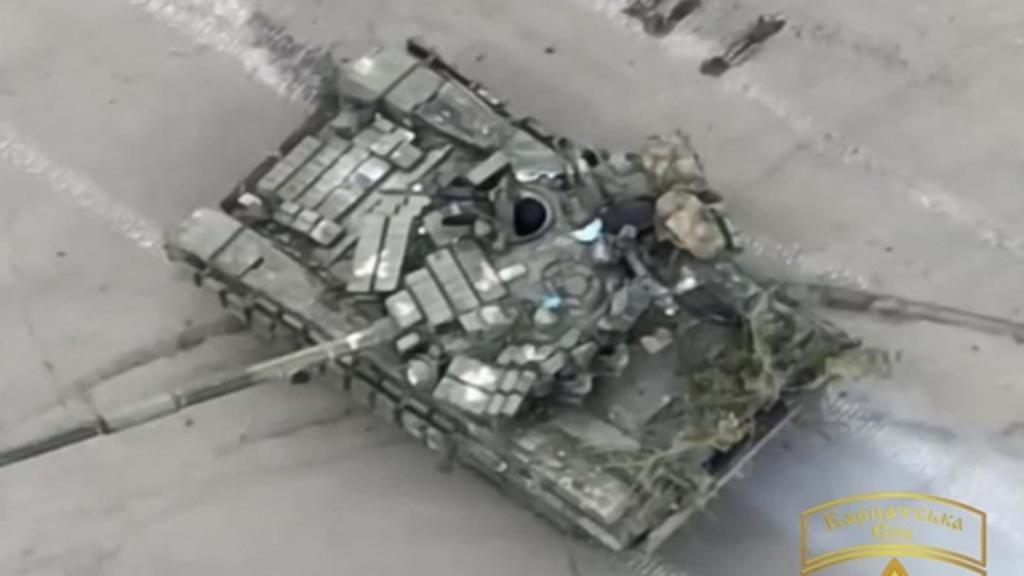TANK: (0, 26, 852, 556)
